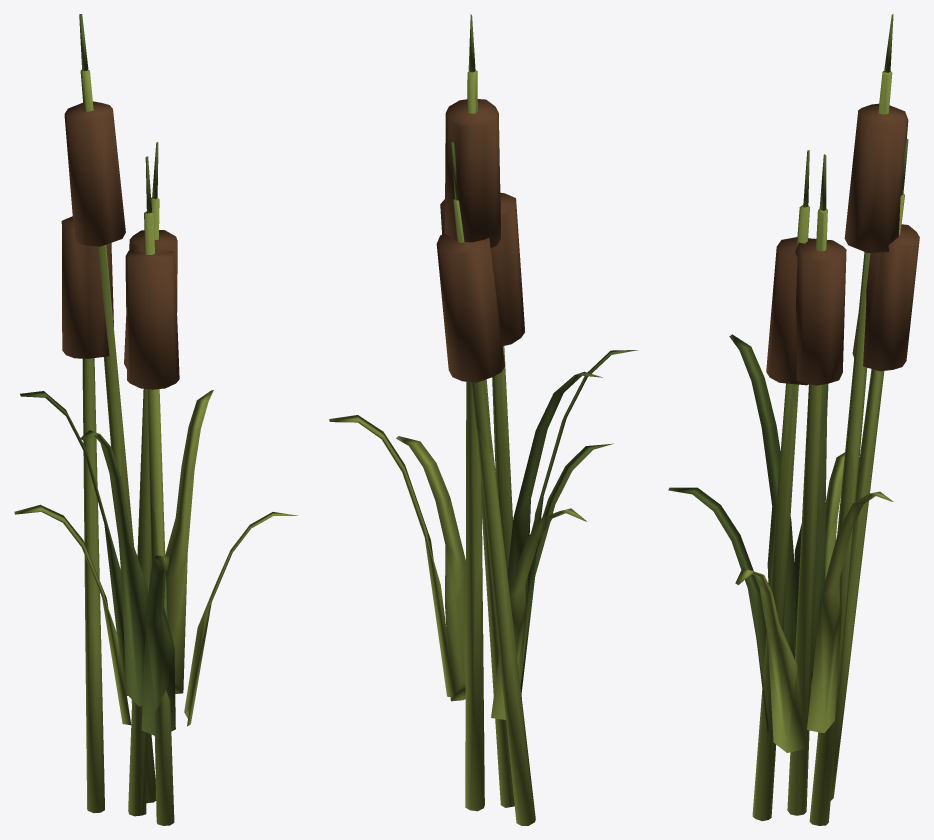
File: mire_cattail_lod2.glb
The picture shows the model from 3 angles, left to right: view 1: azimuth 30°, elevation 25°; view 2: azimuth 150°, elevation 25°; view 3: azimuth 270°, elevation 25°; orthographic projection. The views are drawn at different scales.
Visible parts, largest first — view 1: mire_cattail.001; view 2: mire_cattail.001; view 3: mire_cattail.001.
Part boxes in pixels (box(x1,y1,x2,y2)): mire_cattail.001: box(14, 14, 298, 825); mire_cattail.001: box(329, 14, 638, 825); mire_cattail.001: box(668, 14, 919, 825).
Size of the model in its own units: 6.35 by 19.74 by 5.68.
